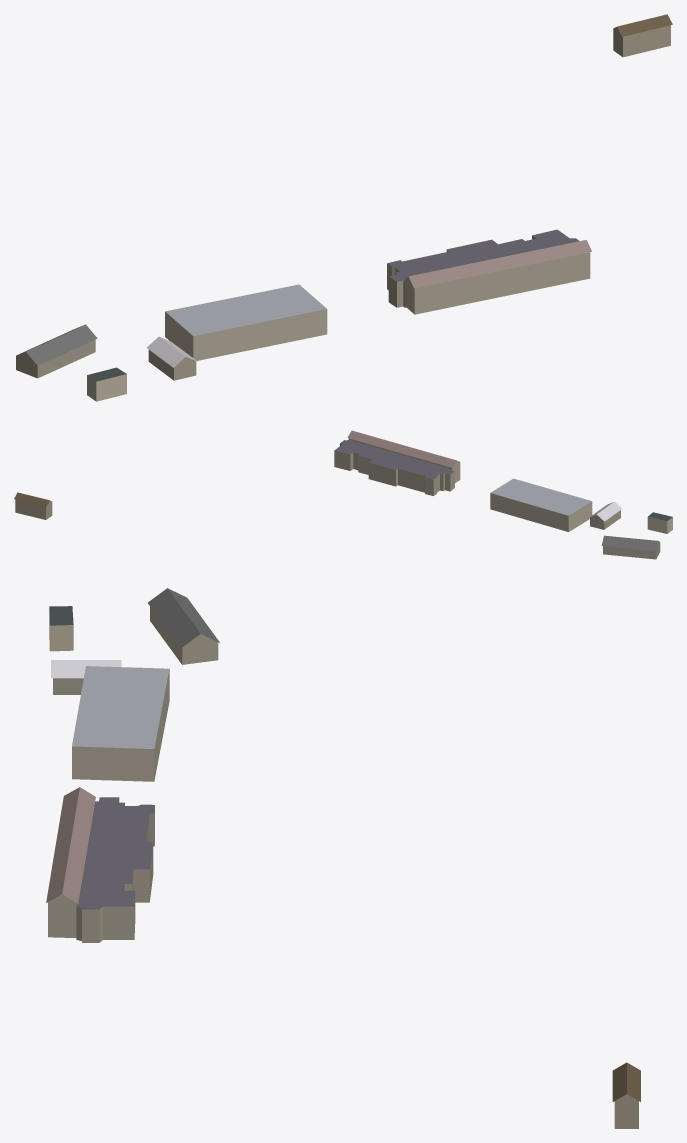
3 views of the same model, one above another, from view 1: azimuth 30°, elevation 25°; view 2: azimuth 150°, elevation 25°; view 3: azimuth 270°, elevation 25° (orthographic). The views are drawn at different scales.
Parts seen in each view (by area): view 1: tuile; view 2: tuile; view 3: tuile.
Part boxes in pixels (<box>): tuile: <box>16,14,672,401</box>; tuile: <box>14,430,672,559</box>; tuile: <box>46,588,640,1128</box>.
Size of the model in its own units: 216 by 9.59 by 105.
